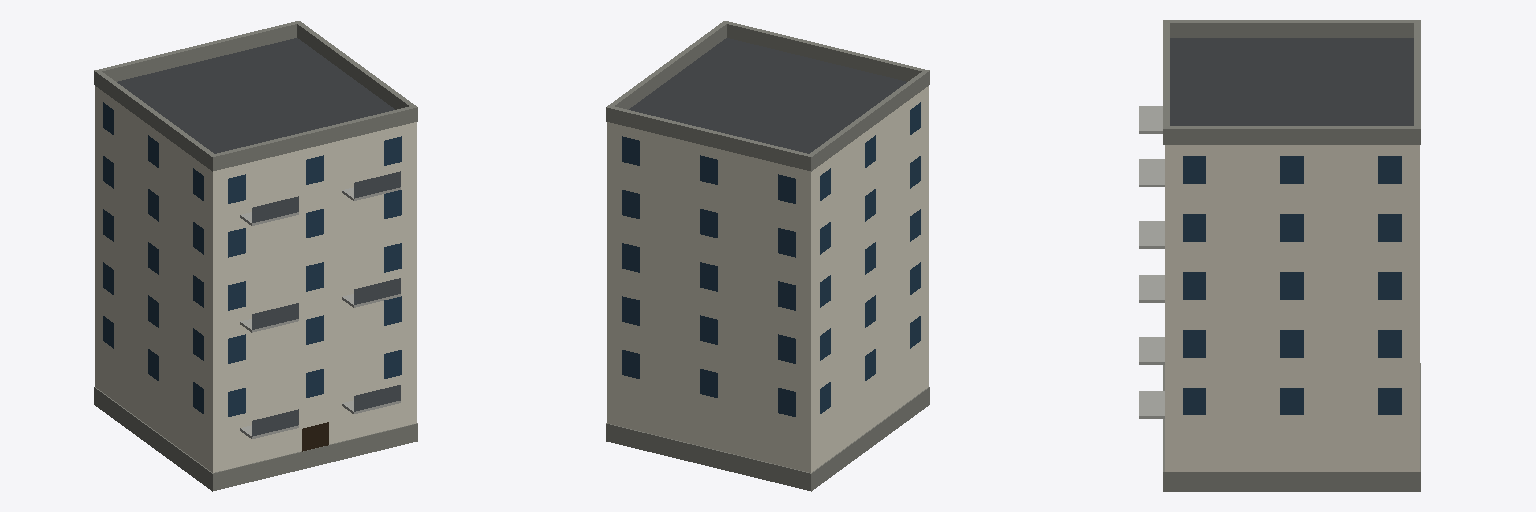
URDF robot description (building_03):
<?xml version="1.0" encoding="utf-8"?>
<!-- Generated by tools/generate_assets.py -->
<robot name="building_03">
  <link name="base_link">
    <inertial>
      <mass value="0" />
      <inertia ixx="0" ixy="0" ixz="0" iyy="0" iyz="0" izz="0" />
    </inertial>
    <visual name="part_0">
      <geometry><mesh filename="meshes/building_03_v0.obj" /></geometry>
      <material name="building_03_0"><color rgba="0.87 0.85 0.79 1" /></material>
    </visual>
    <visual name="part_1">
      <geometry><mesh filename="meshes/building_03_v1.obj" /></geometry>
      <material name="building_03_1"><color rgba="0.55 0.55 0.52 1" /></material>
    </visual>
    <visual name="part_2">
      <geometry><mesh filename="meshes/building_03_v2.obj" /></geometry>
      <material name="building_03_2"><color rgba="0.3 0.31 0.32 1" /></material>
    </visual>
    <visual name="part_3">
      <geometry><mesh filename="meshes/building_03_v3.obj" /></geometry>
      <material name="building_03_3"><color rgba="0.6 0.62 0.63 1" /></material>
    </visual>
    <visual name="part_4">
      <geometry><mesh filename="meshes/building_03_v4.obj" /></geometry>
      <material name="building_03_4"><color rgba="0.2 0.3 0.38 1" /></material>
    </visual>
    <visual name="part_5">
      <geometry><mesh filename="meshes/building_03_v5.obj" /></geometry>
      <material name="building_03_5"><color rgba="0.25 0.2 0.15 1" /></material>
    </visual>
    <visual name="part_6">
      <geometry><mesh filename="meshes/building_03_v6.obj" /></geometry>
      <material name="building_03_6"><color rgba="0.7 0.7 0.68 1" /></material>
    </visual>
    <visual name="part_7">
      <geometry><mesh filename="meshes/building_03_v7.obj" /></geometry>
      <material name="building_03_7"><color rgba="0.36 0.38 0.4 1" /></material>
    </visual>
    <collision name="hull_0">
      <geometry><mesh filename="meshes/building_03_c0.obj" /></geometry>
    </collision>
    <collision name="hull_1">
      <geometry><mesh filename="meshes/building_03_c1.obj" /></geometry>
    </collision>
    <collision name="hull_2">
      <geometry><mesh filename="meshes/building_03_c2.obj" /></geometry>
    </collision>
    <collision name="hull_3">
      <geometry><mesh filename="meshes/building_03_c3.obj" /></geometry>
    </collision>
    <collision name="hull_4">
      <geometry><mesh filename="meshes/building_03_c4.obj" /></geometry>
    </collision>
    <collision name="hull_5">
      <geometry><mesh filename="meshes/building_03_c5.obj" /></geometry>
    </collision>
    <collision name="hull_6">
      <geometry><mesh filename="meshes/building_03_c6.obj" /></geometry>
    </collision>
    <collision name="hull_7">
      <geometry><mesh filename="meshes/building_03_c7.obj" /></geometry>
    </collision>
  </link>
</robot>

--- What the picture shows (computed from the rendered views, not written in the file) ---
3 views of the same robot in one strip: view 1: azimuth 30°, elevation 25°; view 2: azimuth 150°, elevation 25°; view 3: azimuth 270°, elevation 25° (orthographic).
Model building_03 with 1 links and 0 joints (none), rooted at base_link, posed all joints at 0.
Visible links, largest first — view 1: base_link; view 2: base_link; view 3: base_link.
Link boxes in pixels (left/top/right/bottom): base_link: left=94, top=21, right=417, bottom=491; base_link: left=606, top=21, right=929, bottom=491; base_link: left=1139, top=20, right=1420, bottom=491.
Size in the robot's own frame: 12.12 by 13.26 by 18.8 metres.
Meshes: 8 distinct files referenced, 7 mesh visuals loaded (7 OBJ); not drawn: 1 (reference not matched to a file when rendering).
